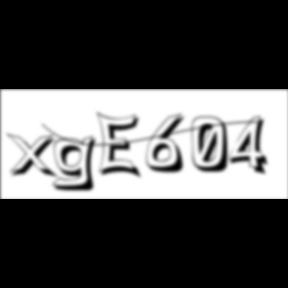0: (192, 115, 236, 174)
4: (228, 115, 274, 179)
6: (146, 112, 192, 176)
E: (96, 110, 146, 182)
g: (52, 134, 104, 194)
x: (7, 132, 62, 181)
